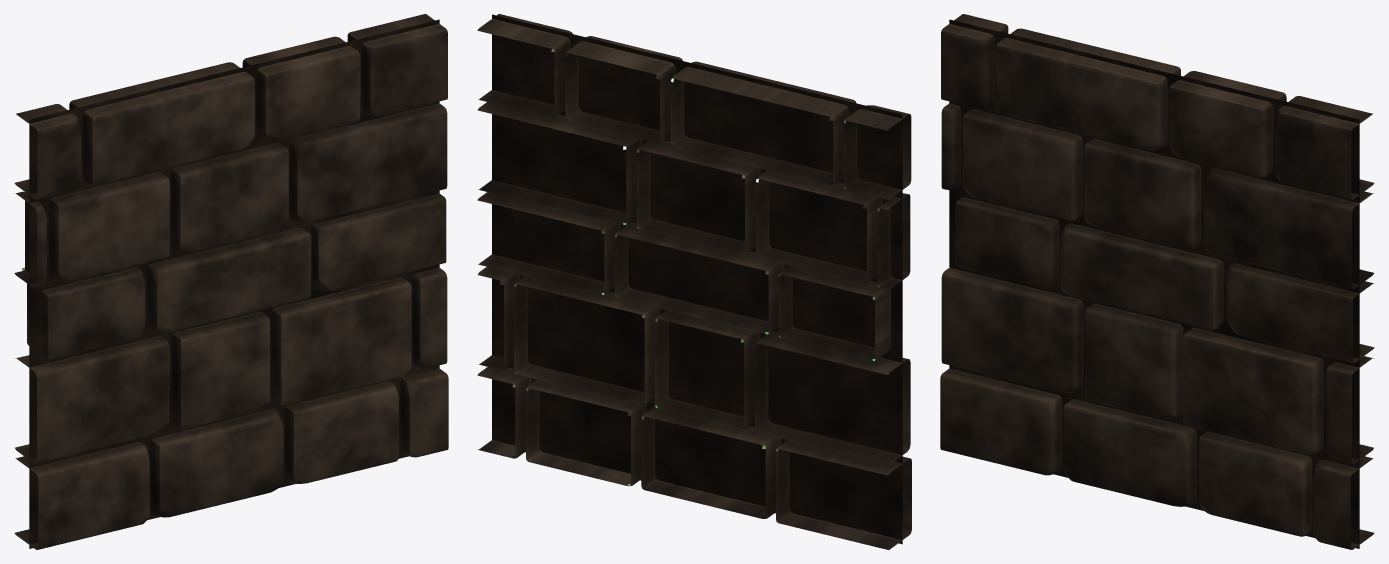
The model's file is Ossuary_BackWall.fbx.
3 renders of one model, left to right at view 1: azimuth 30°, elevation 25°; view 2: azimuth 150°, elevation 25°; view 3: azimuth 330°, elevation 25°, orthographic.
Parts seen in each view (by area): view 1: Ossuary_BackWall; view 2: Ossuary_BackWall; view 3: Ossuary_BackWall.
Part boxes in pixels (box(x1,y1,x2,y2)): Ossuary_BackWall: box(14, 14, 448, 549); Ossuary_BackWall: box(477, 14, 911, 549); Ossuary_BackWall: box(940, 14, 1374, 549).
Size of the model in its own units: 4 by 4 by 0.4222.
